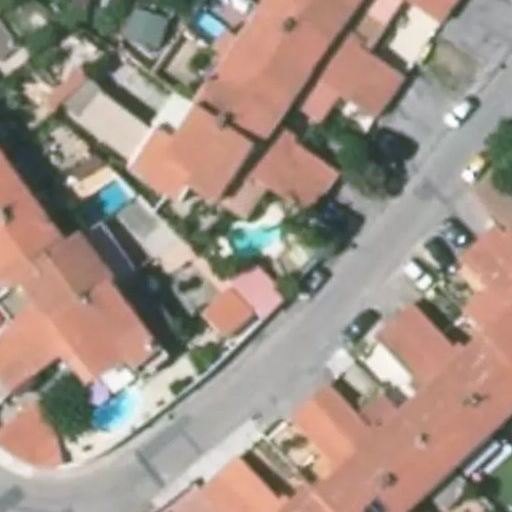pool: (226, 235, 288, 250)
